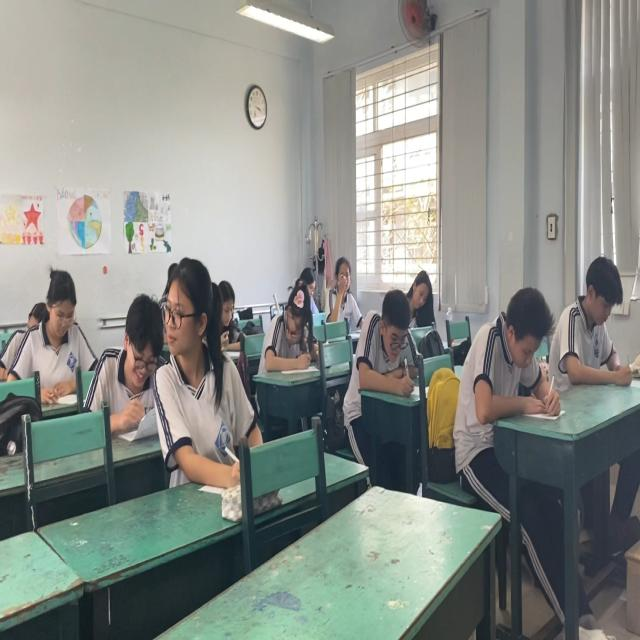cheating: (154, 261, 237, 478)
not_cheating: (458, 274, 554, 426), (558, 236, 636, 391), (100, 292, 164, 446), (348, 285, 411, 391), (39, 263, 82, 391), (266, 271, 310, 374), (325, 240, 364, 322), (406, 257, 442, 329)
